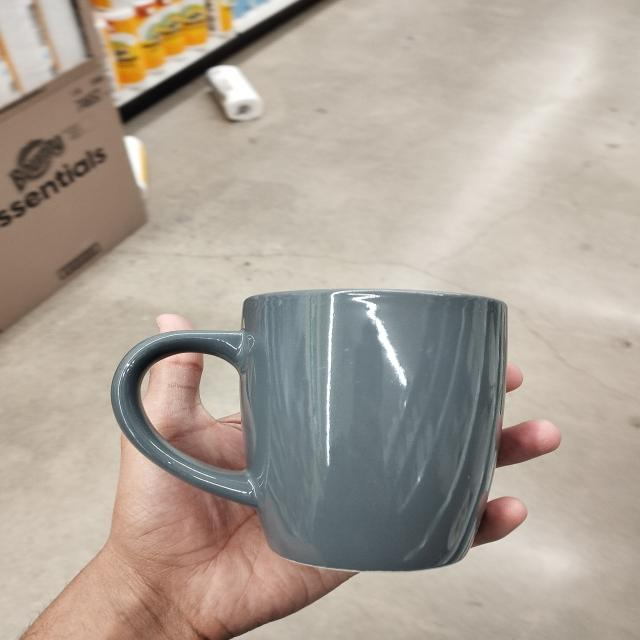Cup: (88, 266, 523, 586)
